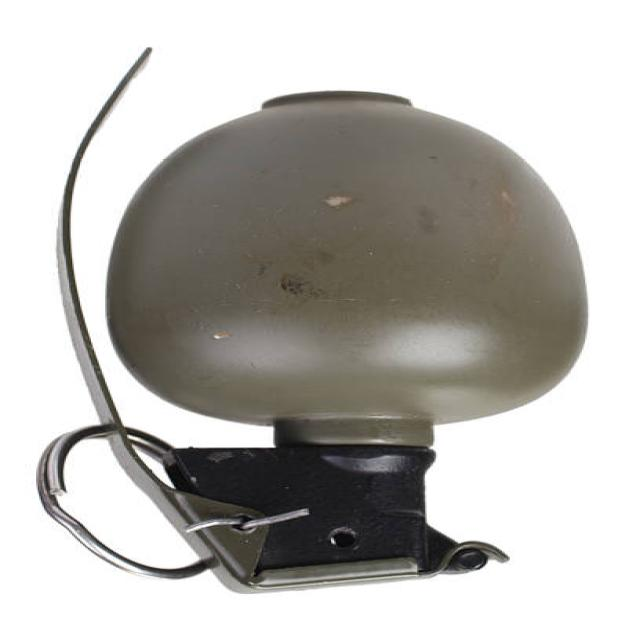grenade: (25, 41, 606, 600)
